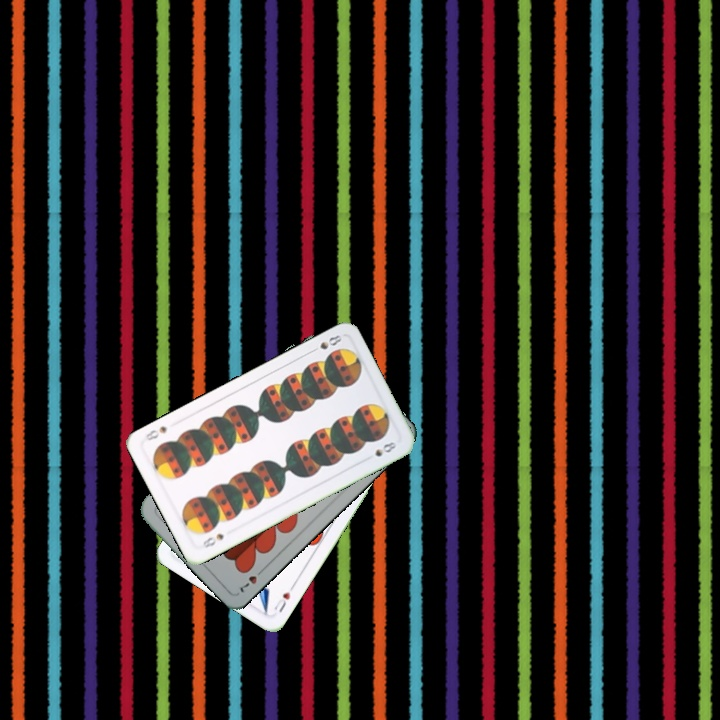H7: (234, 563, 268, 595)
HU: (270, 581, 297, 615)
S8: (306, 331, 344, 356), (198, 529, 226, 551)
